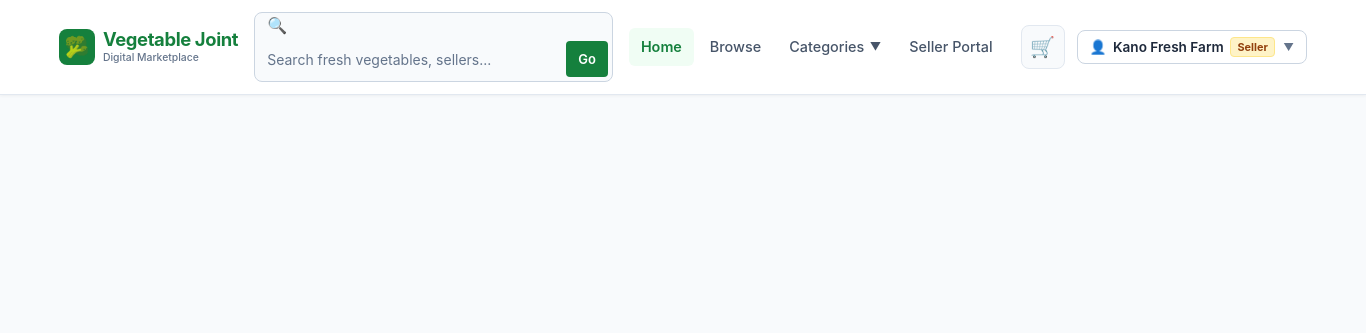
Test case: Navbar Component (FE-022, UI-01, UI-07, CART-07) › Role-Dependent Navigation & Menus (UI-07) › displays Seller-specific options when logged in as Seller
Expected: the link "Seller Portal" is shown, [909,38,993,55]
Expected: the text "seller" is shown, [1230,37,1275,57]
Click the button "👤 Kano Fresh Farm seller ▼" at (1192, 47), box [1077,30,1307,64]
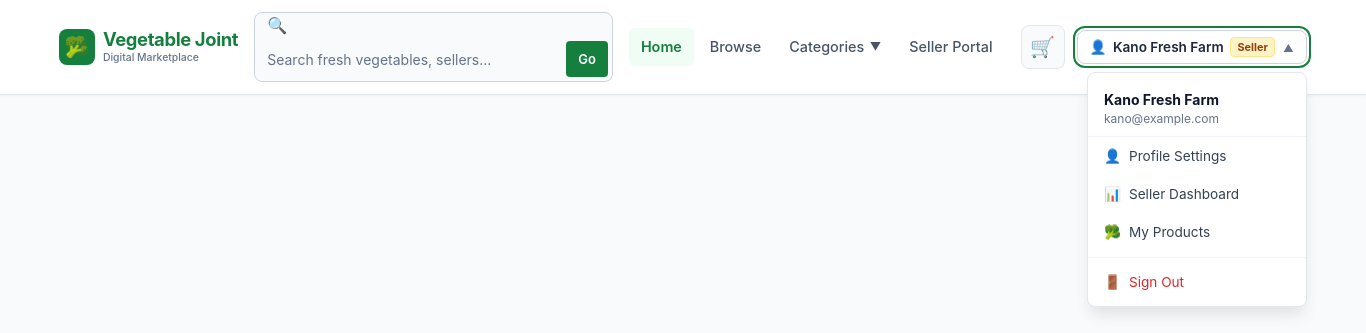
Expected: the text "Seller Dashboard" is shown, [1129,184,1239,204]
Expected: the text "My Products" is shown, [1129,222,1210,242]
